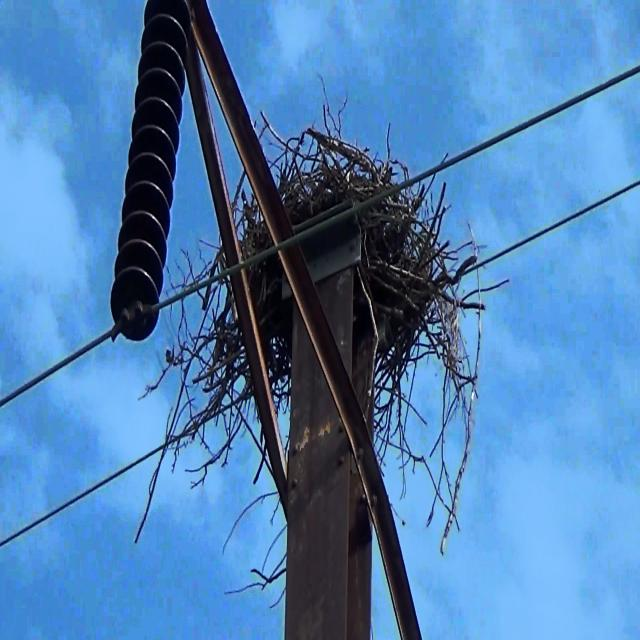obstruction: (357, 176, 510, 560), (134, 277, 287, 597), (254, 76, 412, 225), (247, 255, 292, 466), (167, 231, 226, 297)
poles: (280, 242, 423, 639), (283, 266, 373, 639), (111, 3, 192, 342), (185, 0, 297, 244), (231, 268, 289, 522), (186, 28, 243, 265), (301, 215, 361, 383), (351, 269, 376, 415), (367, 380, 374, 440)
wires: (151, 65, 640, 312), (0, 443, 165, 546), (470, 181, 640, 270), (0, 323, 120, 407)
